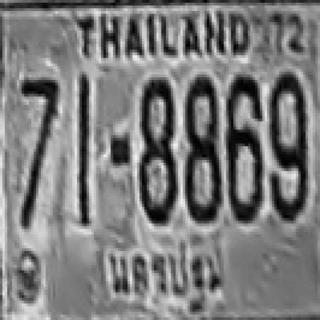N00: (268, 70, 307, 161)
N07: (19, 77, 58, 160)
N08: (138, 76, 177, 222), (184, 74, 222, 221)
P28: (98, 244, 224, 304)
